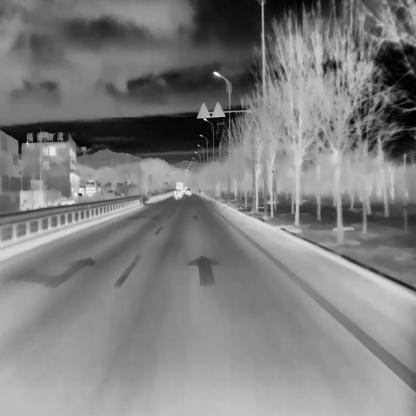car: (176, 181, 183, 196), (173, 189, 182, 199), (186, 188, 191, 195)
